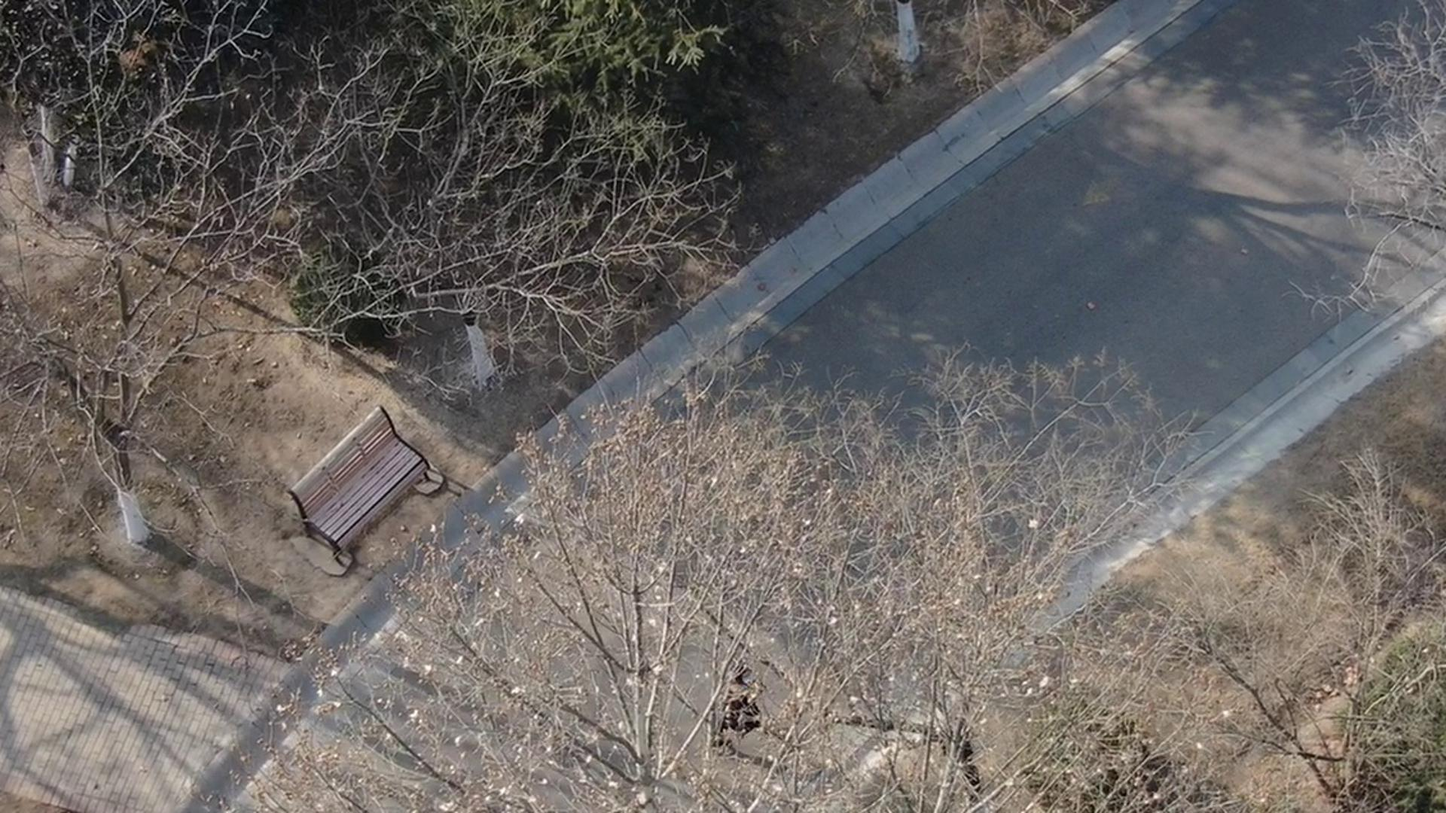human: (737, 643, 789, 743)
